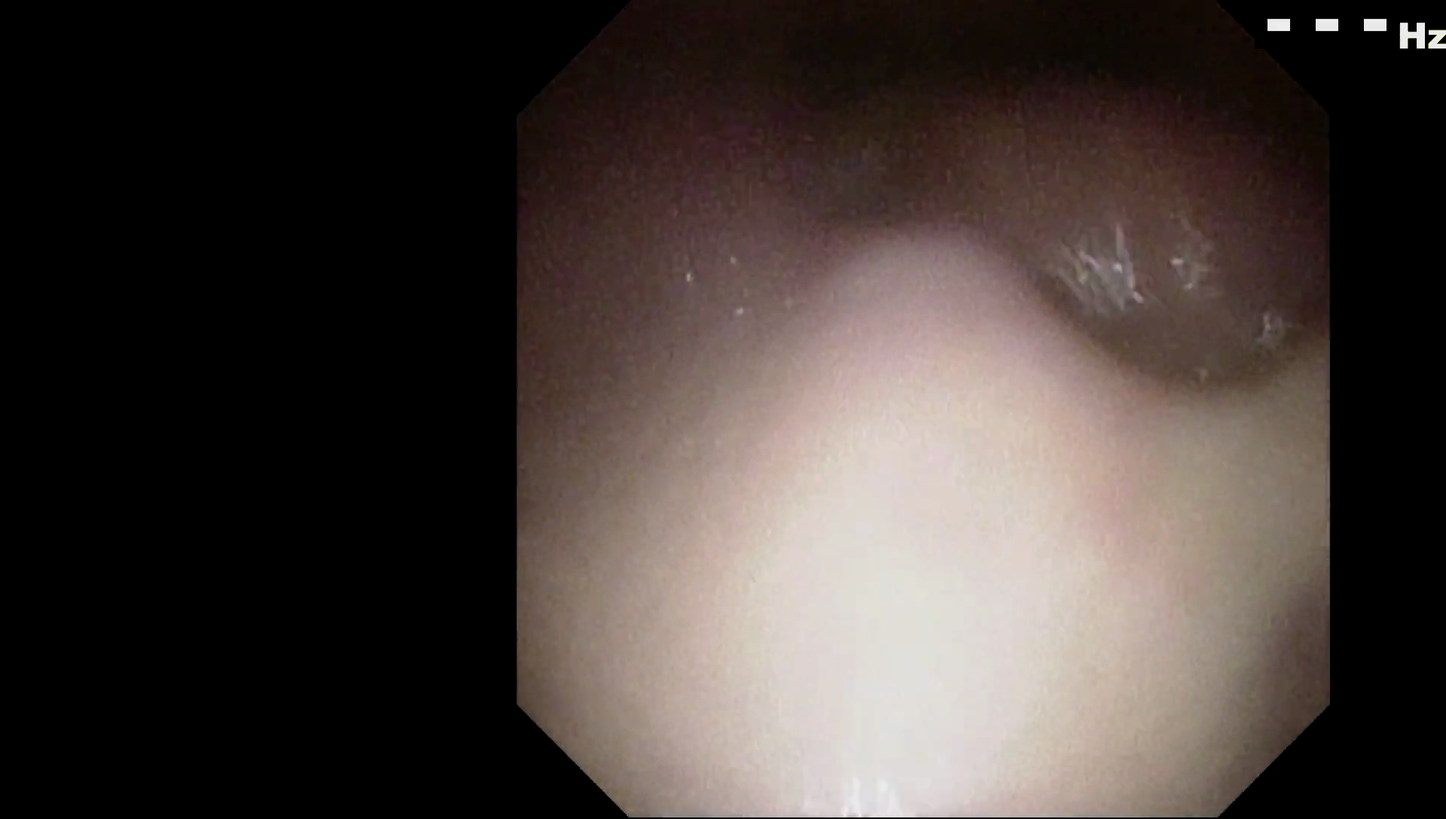close_wall: (578, 196, 1275, 714)
next: (786, 7, 1200, 123)
